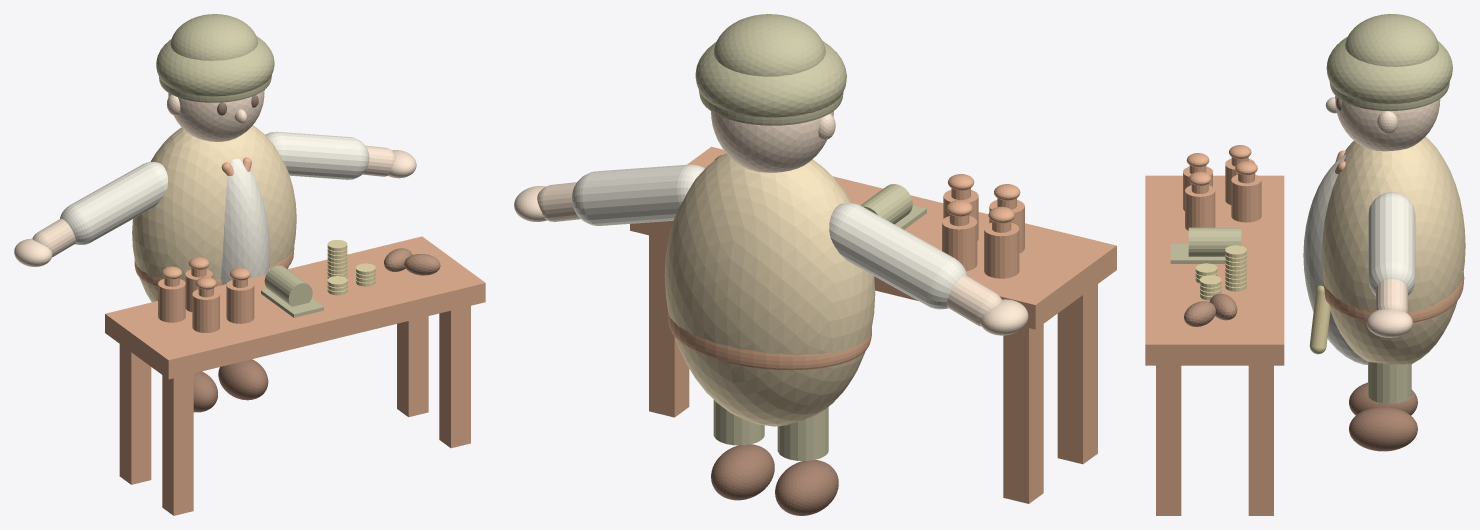
The model's file is merchant.glb.
3 views of the same model, side by side, from view 1: azimuth 30°, elevation 25°; view 2: azimuth 150°, elevation 25°; view 3: azimuth 270°, elevation 25° (orthographic). The views are drawn at different scales.
Parts seen in each view (by area): view 1: Table_Top, Torso_Vest, Sleeve_R, Robe_Front, Table_Leg_R_F, Turban_Wrap, Table_Leg_L_F, Table_Leg_R_B, Sleeve_L, Turban_Top, Table_Leg_L_B, Head (+13 smaller); view 2: Torso_Vest, Table_Top, Sleeve_R, Table_Leg_R_B, Turban_Wrap, Table_Leg_R_F, Sleeve_L, Turban_Top, Table_Leg_L_B, Head, Belt_Rope1, Boot_L (+11 smaller); view 3: Torso_Vest, Table_Top, Turban_Wrap, Sleeve_L, Table_Leg_L_B, Table_Leg_L_F, Turban_Top, Head, Robe_Front, Boot_L, Pant_L, Fabric_Roll (+13 smaller).
Part boxes in pixels (x1,y1,x2,y2): Table_Top: [105, 236, 485, 379]; Torso_Vest: [132, 125, 296, 302]; Sleeve_R: [60, 162, 167, 244]; Robe_Front: [220, 158, 270, 284]; Table_Leg_R_F: [162, 373, 193, 515]; Turban_Wrap: [156, 36, 274, 96]; Table_Leg_L_F: [439, 306, 470, 448]; Table_Leg_R_B: [119, 344, 151, 484]; Sleeve_L: [265, 131, 369, 179]; Turban_Top: [170, 14, 257, 60]; Table_Leg_L_B: [397, 316, 428, 417]; Head: [168, 90, 264, 141]; Torso_Vest: [664, 153, 875, 426]; Table_Top: [630, 146, 1116, 329]; Sleeve_R: [829, 203, 967, 309]; Table_Leg_R_B: [1003, 324, 1043, 503]; Turban_Wrap: [695, 41, 846, 117]; Table_Leg_R_F: [1057, 284, 1097, 464]; Sleeve_L: [572, 164, 704, 225]; Turban_Top: [714, 14, 825, 76]; Table_Leg_L_B: [649, 235, 689, 417]; Head: [711, 111, 833, 172]; Belt_Rope1: [668, 312, 871, 370]; Boot_L: [711, 444, 774, 500]; Torso_Vest: [1322, 137, 1465, 364]; Table_Top: [1145, 175, 1284, 365]; Turban_Wrap: [1326, 37, 1452, 103]; Sleeve_L: [1368, 192, 1415, 295]; Table_Leg_L_B: [1248, 365, 1273, 515]; Table_Leg_L_F: [1156, 365, 1181, 515]; Turban_Top: [1345, 14, 1438, 66]; Head: [1335, 96, 1440, 151]; Robe_Front: [1303, 154, 1367, 364]; Boot_L: [1349, 406, 1417, 451]; Pant_L: [1368, 361, 1411, 403]; Fabric_Roll: [1188, 227, 1241, 256].
Bounding box in the file's own units: 1.19 × 1.09 × 0.76.
